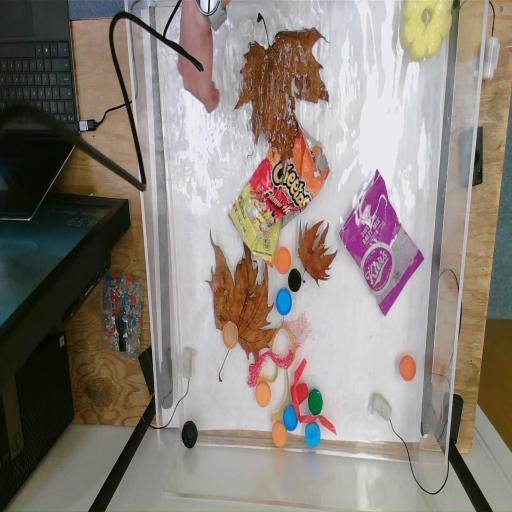Bottle Cap: (276, 244, 292, 274), (182, 420, 198, 450), (399, 354, 416, 382), (276, 287, 292, 316), (222, 320, 238, 348), (308, 388, 323, 416), (304, 422, 320, 448), (254, 383, 272, 406), (287, 268, 302, 293), (273, 421, 287, 447), (284, 403, 298, 429)
Cone Cap: (292, 381, 308, 405)
Leaf: (233, 26, 330, 164), (208, 232, 276, 380), (296, 216, 336, 288)
Netting: (246, 345, 296, 386), (278, 312, 312, 348)
Plastic Bag: (226, 118, 332, 260), (337, 170, 425, 318)
Plastic Strand: (292, 354, 338, 433), (266, 322, 298, 424)
Sponge: (400, 0, 454, 58)
